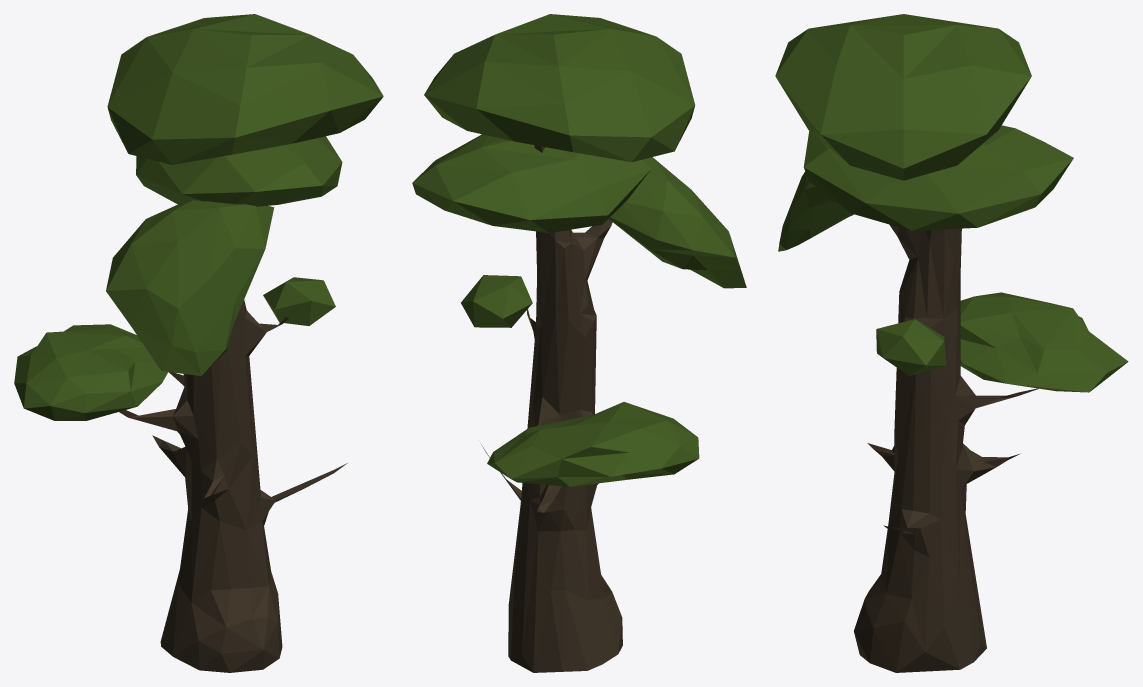
File: SM_tree_b_03.fbx
The picture shows the model from 3 angles, left to right: view 1: azimuth 30°, elevation 25°; view 2: azimuth 150°, elevation 25°; view 3: azimuth 270°, elevation 25°; orthographic projection. The views are drawn at different scales.
Parts seen in each view (by area): view 1: Object187; view 2: Object187; view 3: Object187.
Boxes of the visible parts, box(x1,y1,x2,y2) form: Object187: box(14, 14, 383, 672); Object187: box(412, 14, 746, 672); Object187: box(775, 14, 1128, 672).
Bounding box in the file's own units: 195 × 190 × 374.
